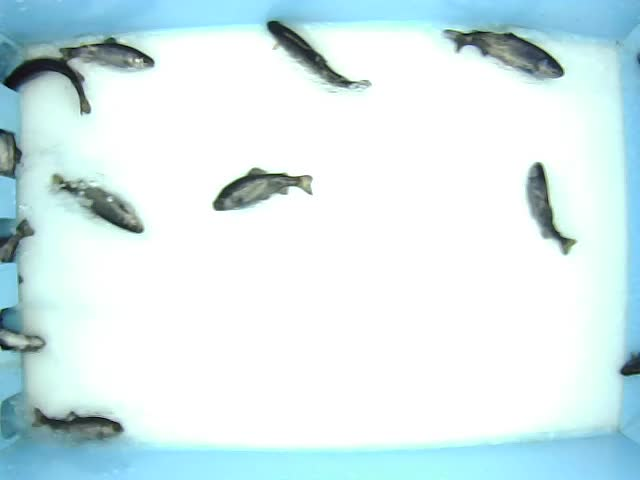fish: (263, 17, 373, 91), (441, 27, 567, 82), (50, 175, 152, 237), (2, 55, 94, 119), (210, 166, 316, 214), (526, 158, 578, 255), (32, 401, 126, 443), (57, 39, 156, 73)
